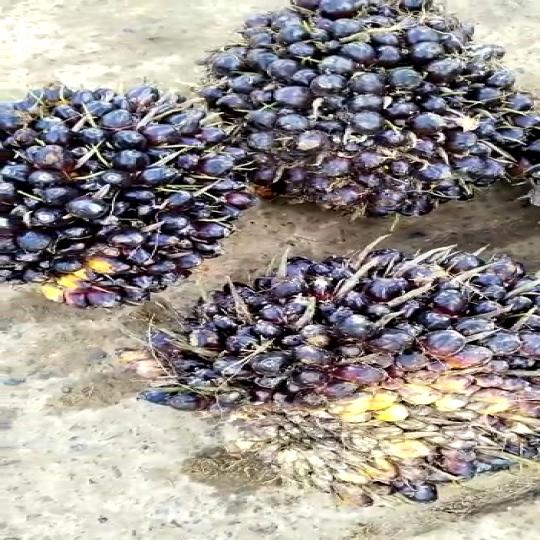mentah: (142, 241, 540, 509), (188, 6, 540, 207), (0, 66, 259, 313)
